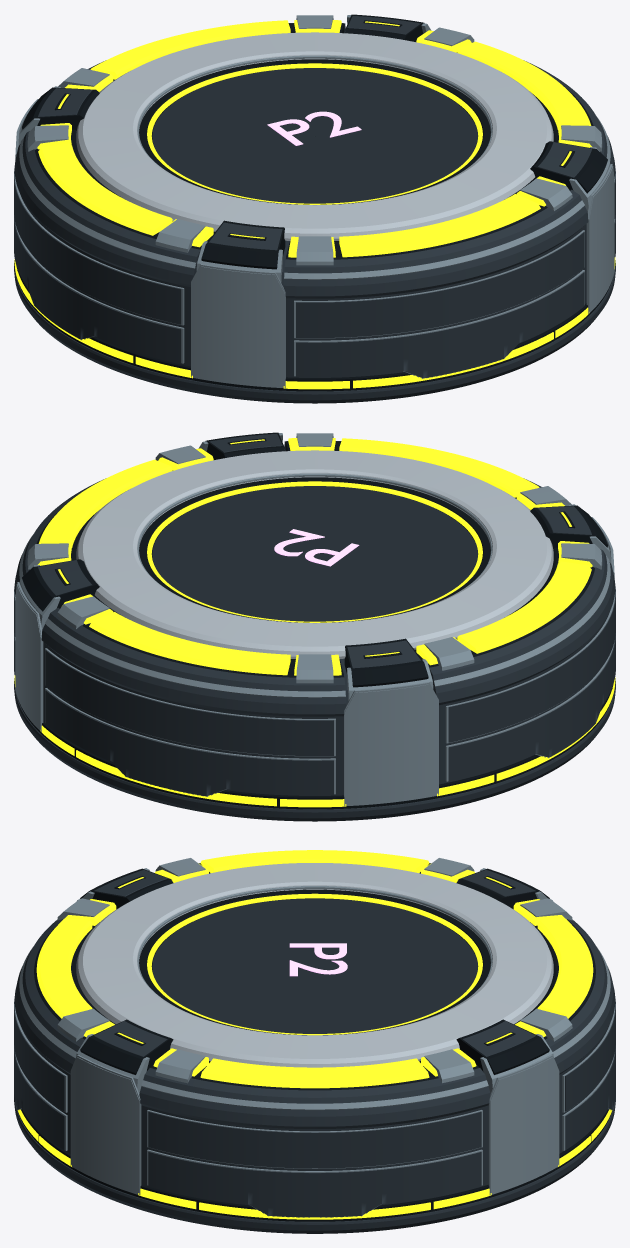
The model's file is Heavy.fbx.
3 renders of one model, top to bottom at view 1: azimuth 30°, elevation 25°; view 2: azimuth 150°, elevation 25°; view 3: azimuth 270°, elevation 25°, orthographic.
Visible parts, largest first — view 1: SM_Puck_Heavy_P2_HighDetail; view 2: SM_Puck_Heavy_P2_HighDetail; view 3: SM_Puck_Heavy_P2_HighDetail.
Part boxes in pixels (x1,y1,x2,y2): SM_Puck_Heavy_P2_HighDetail: (14, 14, 615, 403); SM_Puck_Heavy_P2_HighDetail: (14, 432, 615, 821); SM_Puck_Heavy_P2_HighDetail: (14, 850, 615, 1233).
Size of the model in its own units: 97.5 by 97.5 by 27.3.
